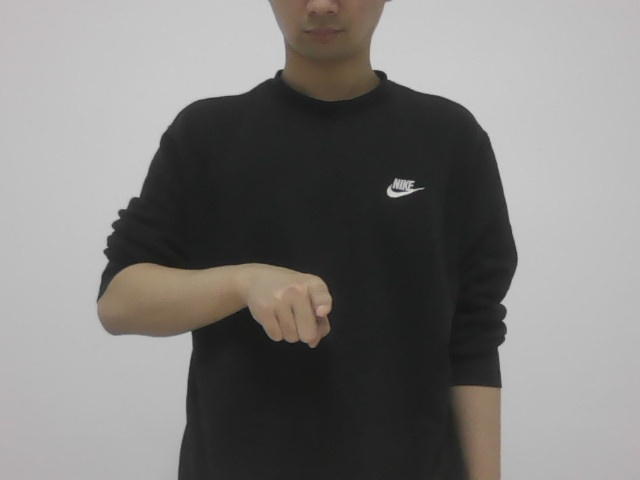you/your/this: (233, 254, 350, 351)
